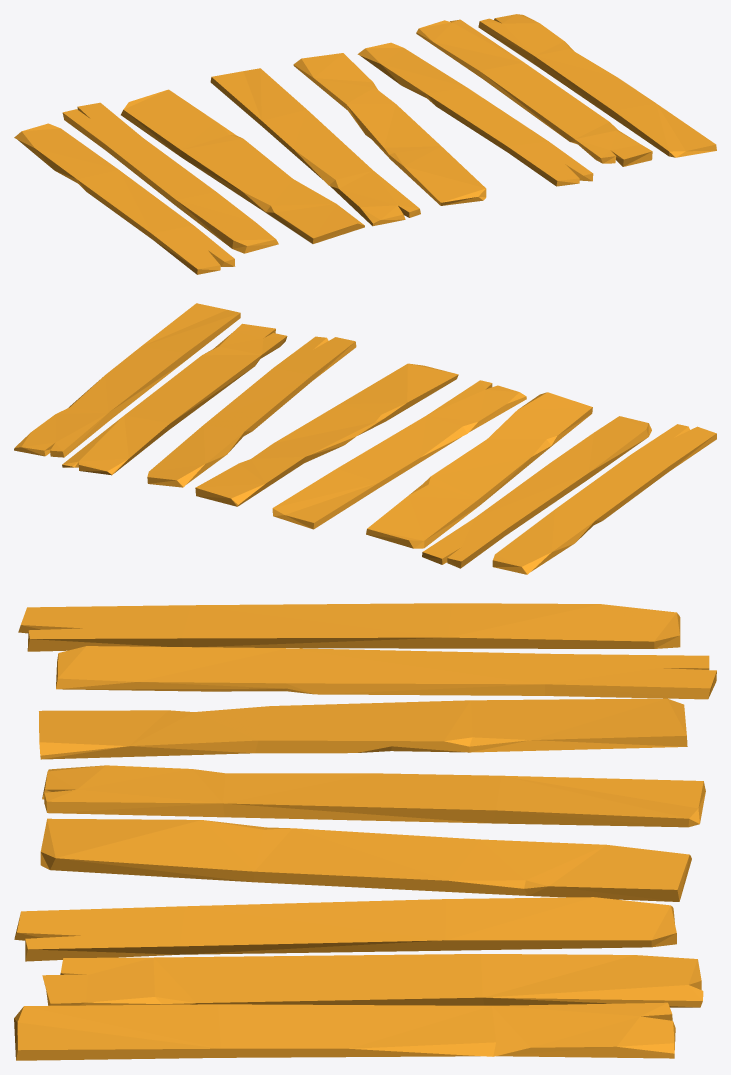
File: SM_Path_Woodplanks_3m_Fantasy.fbx
3 views of the same model, one above another, from view 1: azimuth 30°, elevation 25°; view 2: azimuth 150°, elevation 25°; view 3: azimuth 270°, elevation 25° (orthographic). The views are drawn at different scales.
Visible parts, largest first — view 1: path-woodplanks-3m-fantasy; view 2: path-woodplanks-3m-fantasy; view 3: path-woodplanks-3m-fantasy.
Boxes of the visible parts, x1,y1,x2,y2 form: path-woodplanks-3m-fantasy: (14, 14, 716, 274); path-woodplanks-3m-fantasy: (14, 303, 716, 574); path-woodplanks-3m-fantasy: (14, 603, 716, 1060).
Bounding box in the file's own units: 2.88 × 0.0663 × 1.92.
